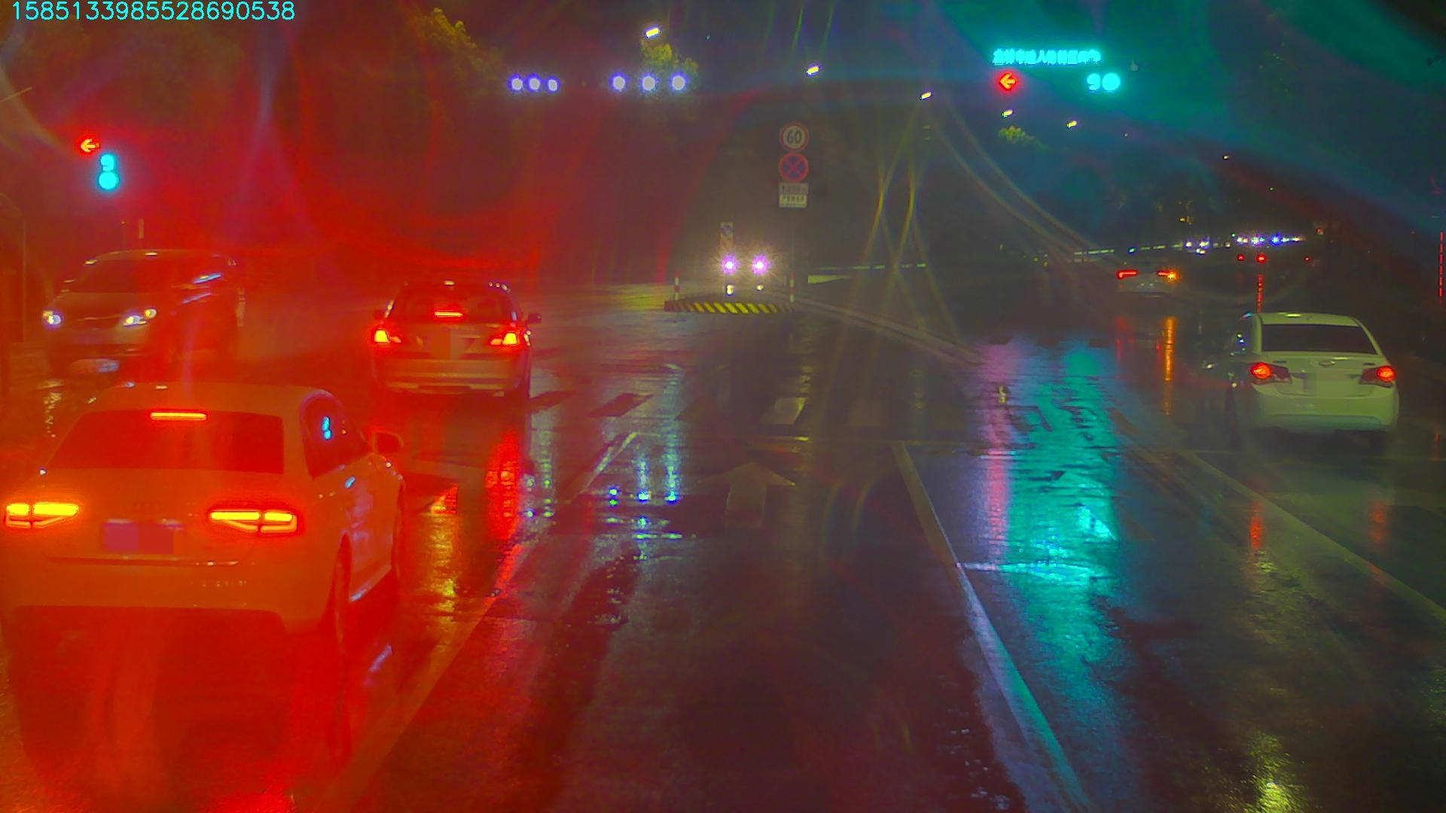green: (1081, 69, 1121, 93)
red: (999, 72, 1017, 94)
wait_on: (988, 44, 1098, 67)
